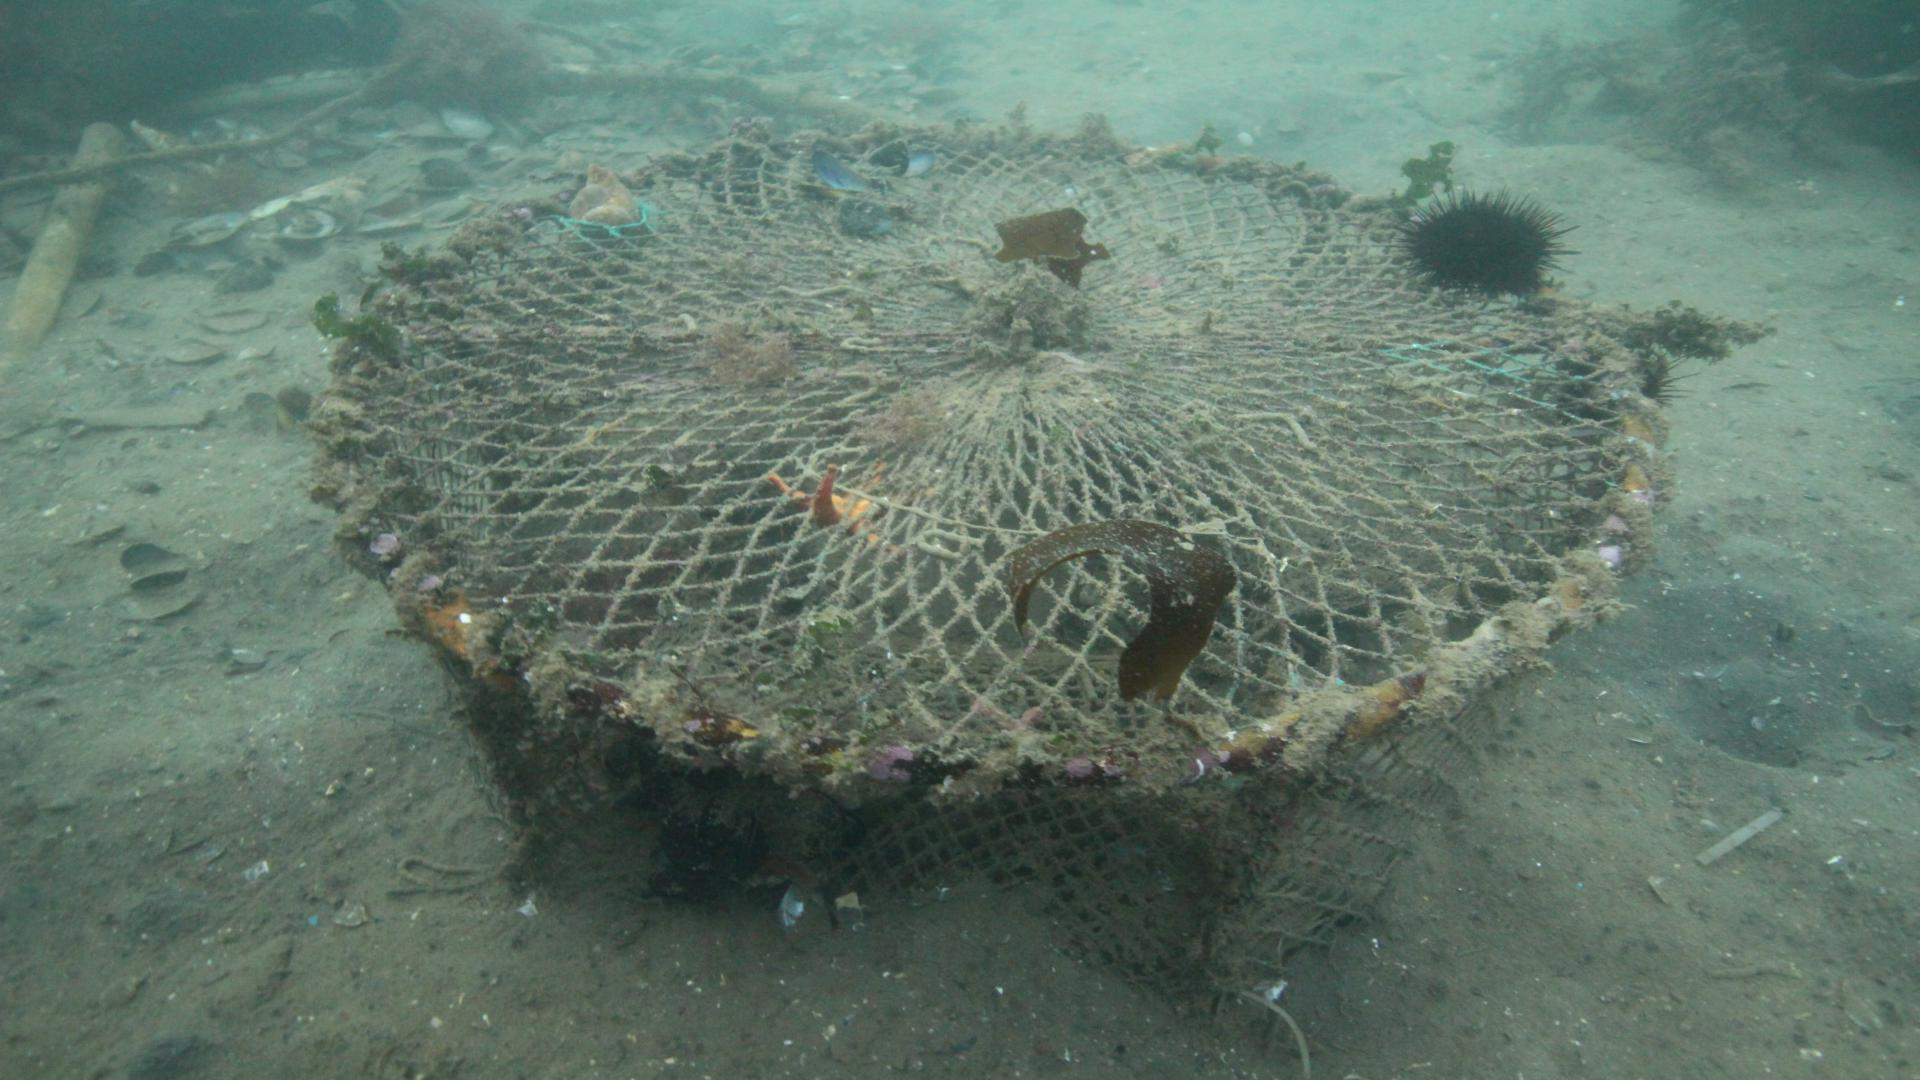circular fish trap: (314, 123, 1664, 1025)
